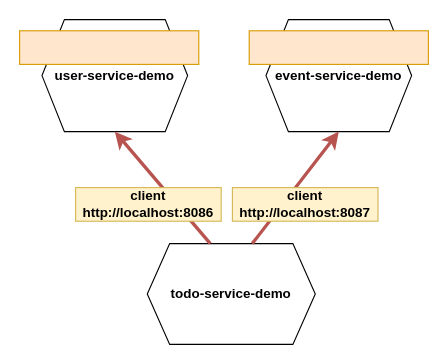
Some shapes in this 448 by 364 pixel diagram are drawn without their labels. Here are the shapes that lost their labels. From the top down, the centre of each, then its label:
At point 108,47: "http://localhost:8086".
At point 338,47: "http://localhost:8087".
